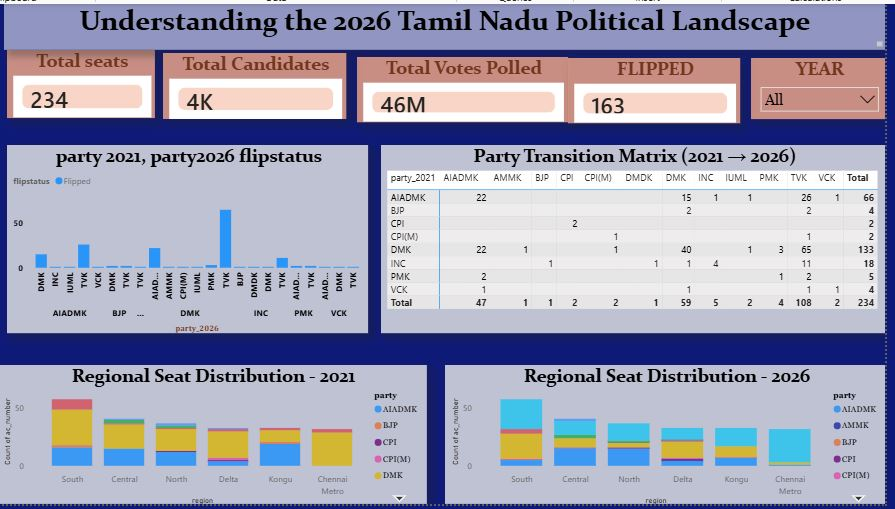

What the dashboard file says about the page in this screenshot:
{"tool":"powerbi","page":{"name":" The flip story","canvas":[1280,720],"ordinal":1},"visuals":[{"type":"cardVisual","title":"Total seats","fields":{"Data":["Count(constituency_master.ac_number)"]},"box":[14.4,66.2,213.1,97.9],"z":0},{"type":"columnChart","title":" Regional Seat Distribution - 2026","fields":{"Category":["ALL_WINNER.region"],"Series":["ALL_WINNER.party"],"Y":["CountNonNull(ALL_WINNER.ac_number)"]},"box":[645.1,519.8,635,200.2],"z":1000},{"type":"textbox","title":"Understanding the 2026 Tamil Nadu Political Landscape","box":[10.1,0,1270.1,66.2],"z":2000},{"type":"cardVisual","title":"Total Votes Polled","fields":{"Data":["Sum(tn_2021_results.votes)"]},"box":[518.4,76.3,303.8,93.6],"z":3000},{"type":"cardVisual","title":"Total Candidates","fields":{"Data":["tn_2021_results.Total Candidates"]},"box":[239,70.6,263.5,95],"z":4000},{"type":"slicer","title":"YEAR","fields":{"Values":["ALL_WINNER.YEAR"]},"box":[1085.8,77.8,194.4,87.8],"z":5000},{"type":"columnChart","title":"Regional Seat Distribution - 2021 ","fields":{"Category":["ALL_WINNER.region"],"Series":["ALL_WINNER.party"],"Y":["CountNonNull(ALL_WINNER.ac_number)"]},"box":[0,519.8,619.2,200.2],"z":6000},{"type":"cardVisual","title":"FLIPPED","fields":{"Data":["CountNonNull(FLIPSTATUS.ac_number)"]},"box":[822.2,77.8,247.7,93.6],"z":7000},{"type":"columnChart","title":"party 2021, party2026 flipstatus","fields":{"Series":["FLIPSTATUS.flipstatus"],"Category":["FLIPSTATUS.party_2021","FLIPSTATUS.party_2026"],"Y":["CountNonNull(FLIPSTATUS.ac_number)"]},"box":[14.4,203,519.8,270.7],"z":8000},{"type":"pivotTable","title":"Party Transition Matrix (2021 → 2026)","fields":{"Rows":["FLIPSTATUS.party_2021"],"Columns":["FLIPSTATUS.party_2026"],"Values":["CountNonNull(FLIPSTATUS.ac_number)"]},"box":[553,203,727.2,270.7],"z":9000}]}

Visuals, with their boxes in screenshot pixels (x1, y1, x2, y2), scaled from the page's 1280x720 canvas onto the 895x509 screenshot:
"Total seats" cardVisual: box(10, 47, 159, 116)
" Regional Seat Distribution - 2026" columnChart: box(451, 367, 894, 508)
"Understanding the 2026 Tamil Nadu Political Landscape" textbox: box(7, 0, 894, 47)
"Total Votes Polled" cardVisual: box(362, 54, 575, 120)
"Total Candidates" cardVisual: box(167, 50, 351, 117)
"YEAR" slicer: box(759, 55, 894, 117)
"Regional Seat Distribution - 2021 " columnChart: box(0, 367, 433, 508)
"FLIPPED" cardVisual: box(575, 55, 748, 121)
"party 2021, party2026 flipstatus" columnChart: box(10, 144, 374, 335)
"Party Transition Matrix (2021 → 2026)" pivotTable: box(387, 144, 894, 335)
